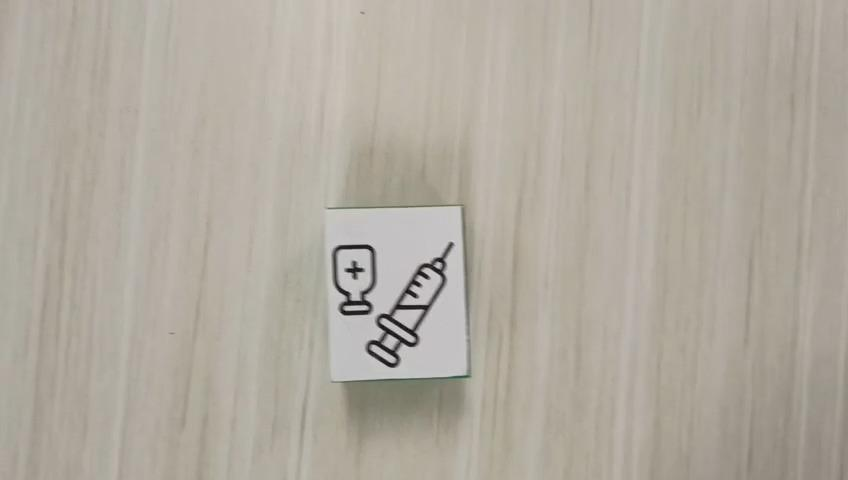antiseptic cream: (323, 203, 471, 382)
